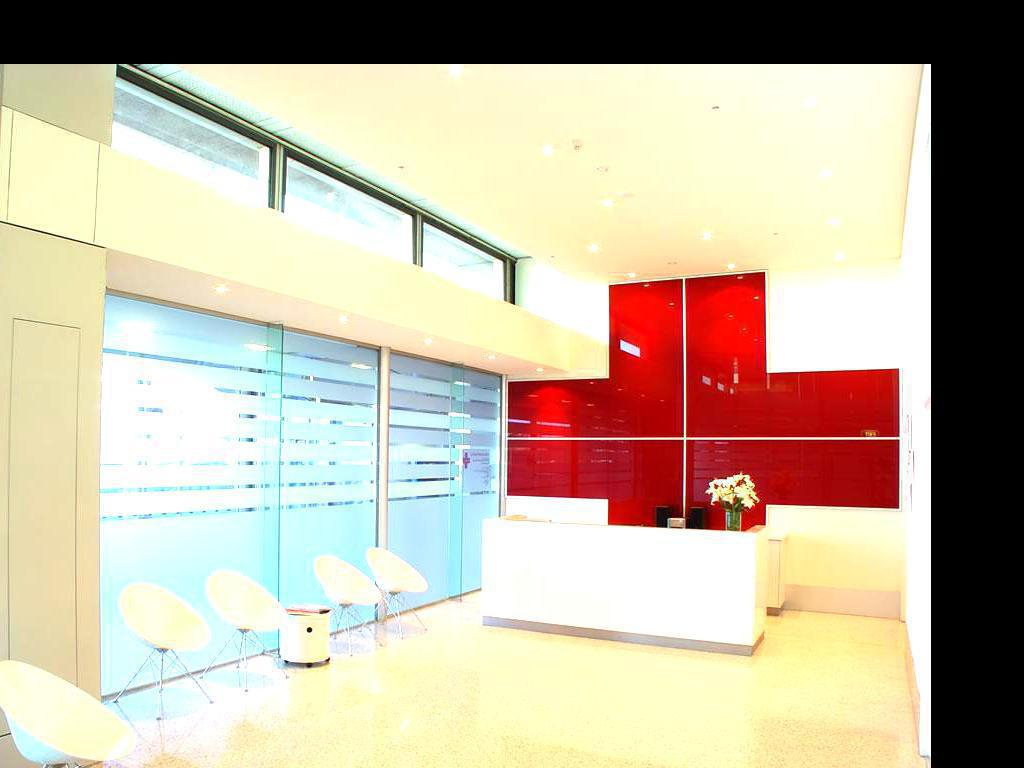Bote de Basura: (285, 599, 338, 670)
Puerta: (457, 367, 505, 589)
